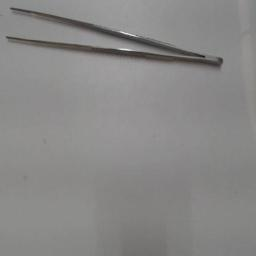DeBakey Dissector: (2, 4, 230, 70)
